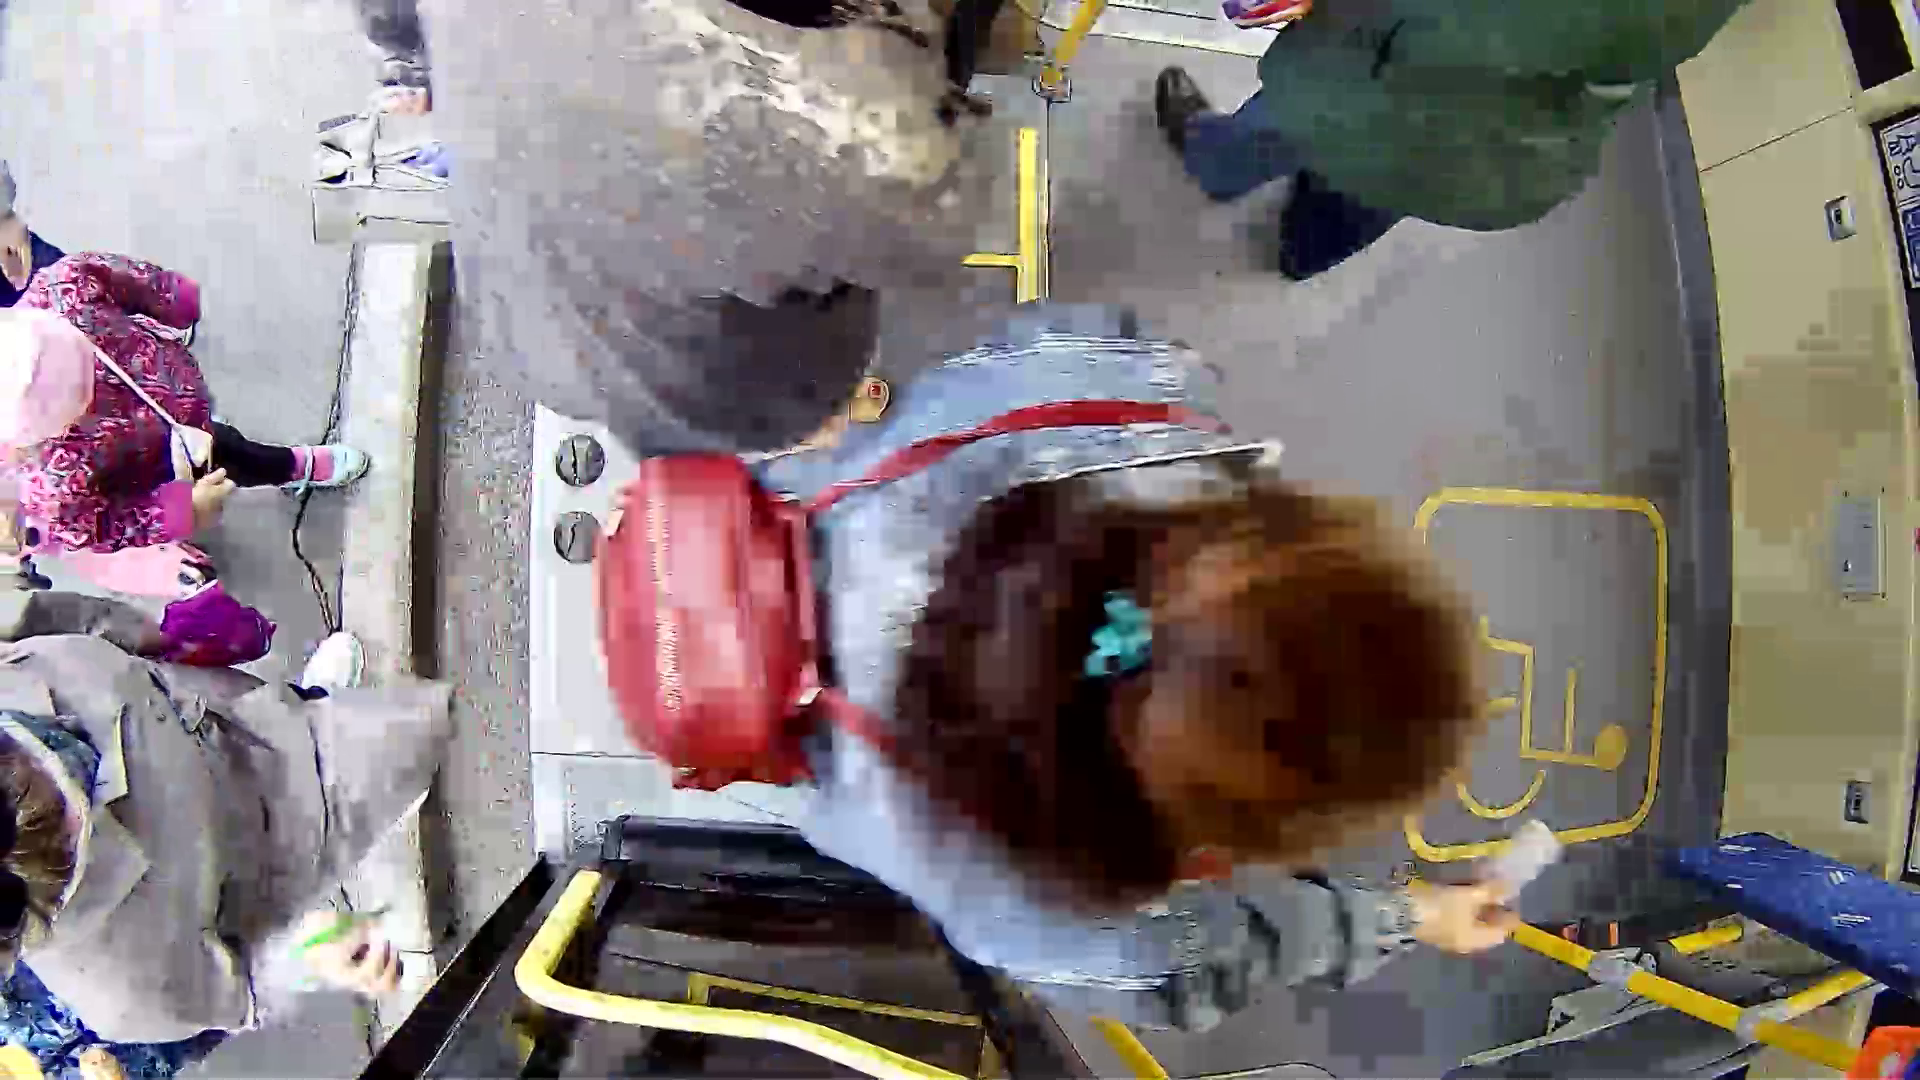person: (678, 367, 1624, 933)
